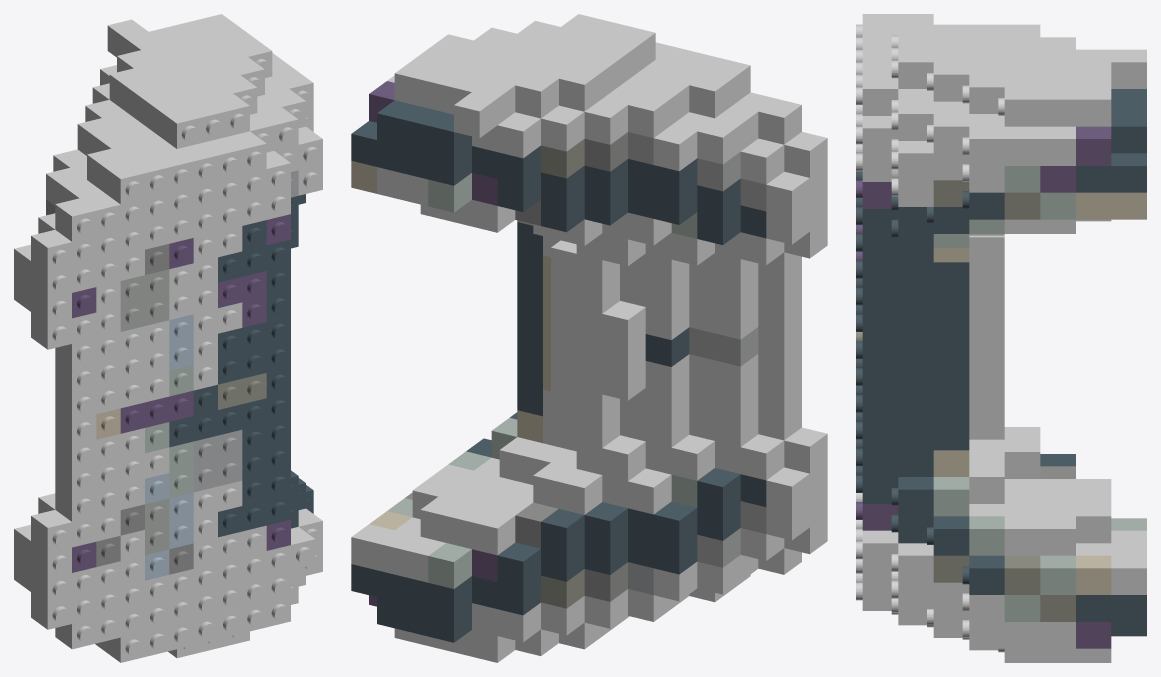
File: full.glb
The picture shows the model from 3 angles, left to right: view 1: azimuth 30°, elevation 25°; view 2: azimuth 150°, elevation 25°; view 3: azimuth 270°, elevation 25°; orthographic projection. The views are drawn at different scales.
Visible parts, largest first — view 1: world; view 2: world; view 3: world.
Boxes of the visible parts, left/top/right/bottom form: world: left=14, top=14, right=322, bottom=662; world: left=351, top=14, right=827, bottom=662; world: left=856, top=14, right=1146, bottom=662.
Bounding box in the file's own units: 104 × 168 × 78.6.
